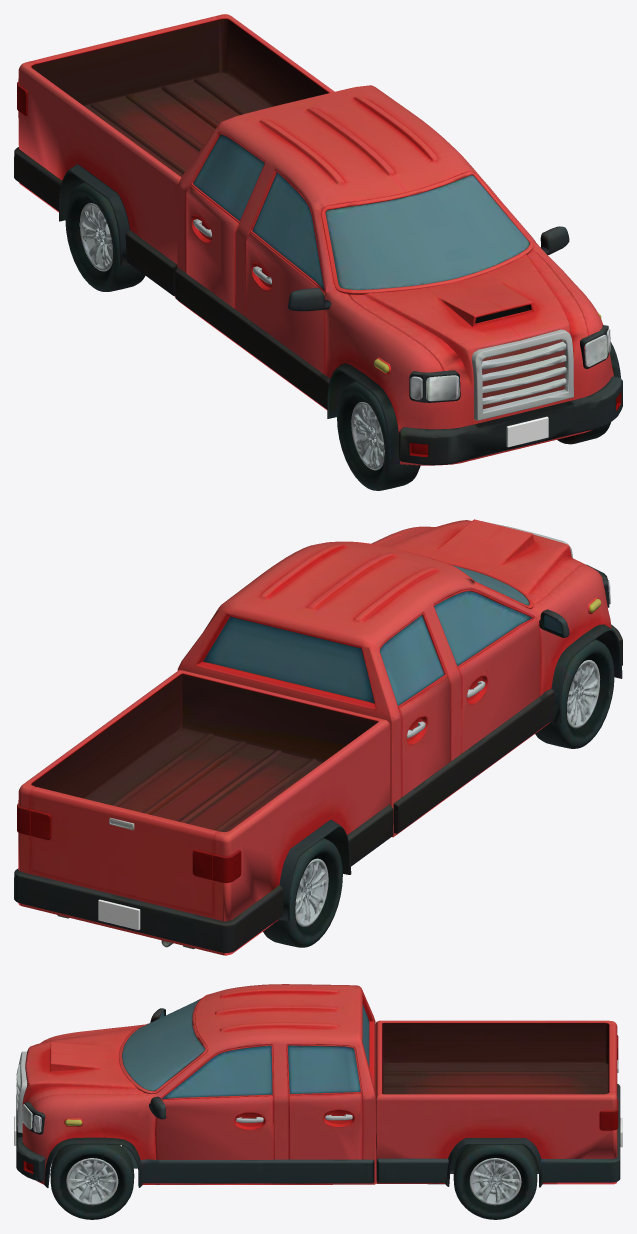
File: pickup.glb
The picture shows the model from 3 angles, top to bottom: view 1: azimuth 30°, elevation 25°; view 2: azimuth 150°, elevation 25°; view 3: azimuth 270°, elevation 25°; orthographic projection. The views are drawn at different scales.
Parts seen in each view (by area): view 1: truck.1; view 2: truck.1; view 3: truck.1.
Boxes of the visible parts, <box> form: truck.1: <box>14,14,622,490</box>; truck.1: <box>14,519,622,955</box>; truck.1: <box>14,984,622,1219</box>.
Bounding box in the file's own units: 0.0955 × 0.0767 × 0.2426.
Materials: 1 (1 with a texture image).
